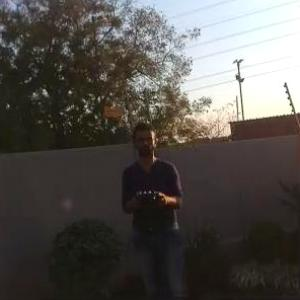follow: (118, 115, 190, 299)
